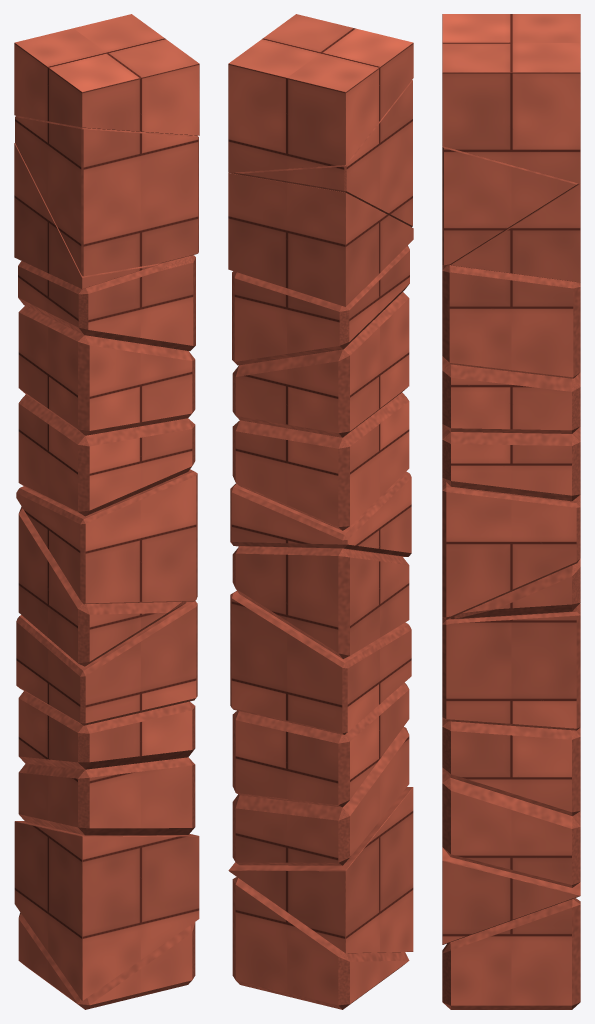
Rendered from Kit_Brick_Joint_Fractured.fbx.
3 renders of one model, left to right at view 1: azimuth 30°, elevation 25°; view 2: azimuth 150°, elevation 25°; view 3: azimuth 270°, elevation 25°, orthographic. The views are drawn at different scales.
Visible parts, largest first — view 1: Kit_Brick_Joint_frag_02, Kit_Brick_Joint_frag_12, Kit_Brick_Joint_frag_13, Kit_Brick_Joint_frag_07, Kit_Brick_Joint_frag_09, Kit_Brick_Joint_frag_05, Kit_Brick_Joint_frag_08, Kit_Brick_Joint_frag_03, Kit_Brick_Joint_frag_10, Kit_Brick_Joint_frag_04, Kit_Brick_Joint_frag_06, Kit_Brick_Joint_frag_01 (+1 smaller); view 2: Kit_Brick_Joint_frag_13, Kit_Brick_Joint_frag_11, Kit_Brick_Joint_frag_05, Kit_Brick_Joint_frag_08, Kit_Brick_Joint_frag_02, Kit_Brick_Joint_frag_06, Kit_Brick_Joint_frag_09, Kit_Brick_Joint_frag_04, Kit_Brick_Joint_frag_01, Kit_Brick_Joint_frag_03, Kit_Brick_Joint_frag_10, Kit_Brick_Joint_frag_07 (+1 smaller); view 3: Kit_Brick_Joint_frag_13, Kit_Brick_Joint_frag_05, Kit_Brick_Joint_frag_07, Kit_Brick_Joint_frag_10, Kit_Brick_Joint_frag_01, Kit_Brick_Joint_frag_03, Kit_Brick_Joint_frag_04, Kit_Brick_Joint_frag_12, Kit_Brick_Joint_frag_09, Kit_Brick_Joint_frag_08, Kit_Brick_Joint_frag_02, Kit_Brick_Joint_frag_11 (+1 smaller).
Boxes of the visible parts, x1,y1,x2,y2 form: Kit_Brick_Joint_frag_02: (14, 821, 199, 1000); Kit_Brick_Joint_frag_12: (15, 115, 198, 276); Kit_Brick_Joint_frag_13: (14, 14, 199, 135); Kit_Brick_Joint_frag_07: (16, 469, 197, 604); Kit_Brick_Joint_frag_09: (18, 306, 195, 435); Kit_Brick_Joint_frag_05: (16, 601, 197, 725); Kit_Brick_Joint_frag_08: (18, 394, 195, 516); Kit_Brick_Joint_frag_03: (18, 757, 195, 835); Kit_Brick_Joint_frag_10: (18, 255, 195, 351); Kit_Brick_Joint_frag_04: (18, 691, 195, 769); Kit_Brick_Joint_frag_06: (18, 506, 186, 666); Kit_Brick_Joint_frag_01: (18, 912, 195, 1009); Kit_Brick_Joint_frag_13: (228, 14, 413, 172); Kit_Brick_Joint_frag_11: (228, 173, 413, 306); Kit_Brick_Joint_frag_05: (230, 591, 411, 734); Kit_Brick_Joint_frag_08: (232, 392, 409, 530); Kit_Brick_Joint_frag_02: (228, 787, 413, 953); Kit_Brick_Joint_frag_06: (232, 546, 409, 658); Kit_Brick_Joint_frag_09: (232, 292, 409, 437); Kit_Brick_Joint_frag_04: (232, 682, 409, 807); Kit_Brick_Joint_frag_01: (232, 877, 409, 1009); Kit_Brick_Joint_frag_03: (232, 727, 409, 865); Kit_Brick_Joint_frag_10: (232, 245, 409, 365); Kit_Brick_Joint_frag_07: (230, 471, 411, 556); Kit_Brick_Joint_frag_13: (442, 14, 580, 183); Kit_Brick_Joint_frag_05: (442, 603, 580, 730); Kit_Brick_Joint_frag_07: (442, 478, 580, 619); Kit_Brick_Joint_frag_10: (442, 265, 580, 378); Kit_Brick_Joint_frag_01: (442, 898, 580, 1009); Kit_Brick_Joint_frag_03: (442, 767, 580, 887); Kit_Brick_Joint_frag_04: (442, 717, 580, 816); Kit_Brick_Joint_frag_12: (442, 146, 578, 265); Kit_Brick_Joint_frag_09: (442, 356, 580, 433); Kit_Brick_Joint_frag_08: (442, 424, 580, 501); Kit_Brick_Joint_frag_02: (442, 847, 580, 944); Kit_Brick_Joint_frag_11: (451, 183, 580, 282).
Size of what is drawn, in the model's own units: 0.4 by 3 by 0.4.
2 materials, 2 textured.
